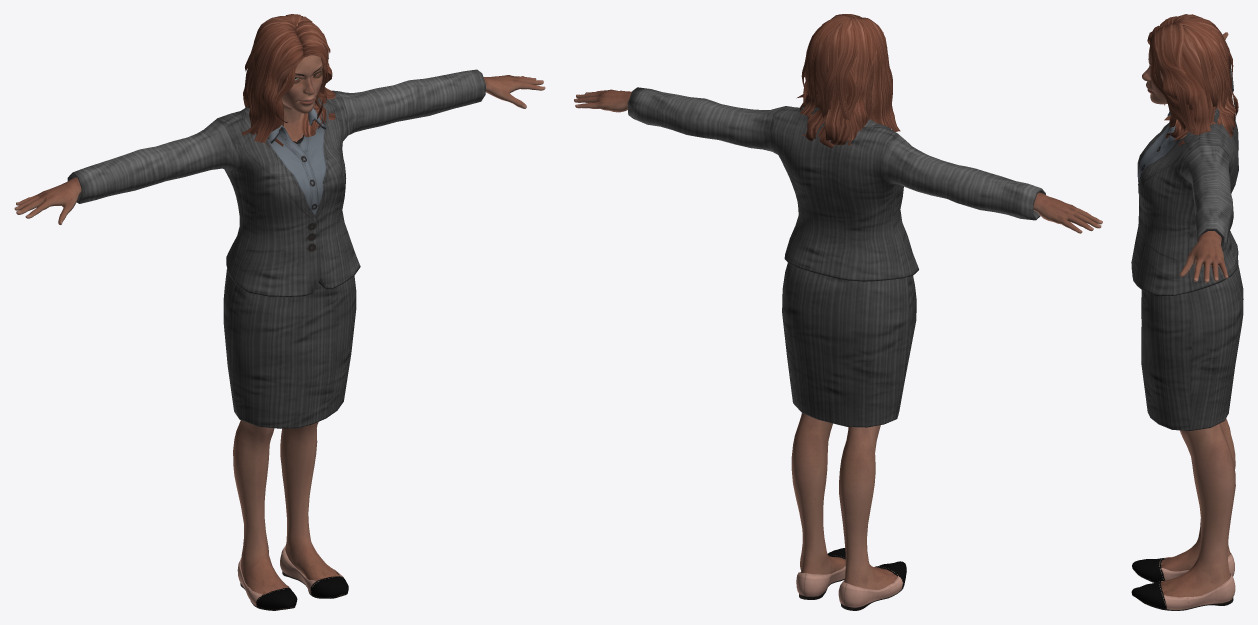
The model's file is modelw10.obj.
3 renders of one model, left to right at view 1: azimuth 30°, elevation 25°; view 2: azimuth 150°, elevation 25°; view 3: azimuth 270°, elevation 25°, orthographic.
Parts seen in each view (by area): view 1: Tops, Bottoms, Body, Hair, Shoes; view 2: Tops, Bottoms, Body, Hair, Shoes; view 3: Tops, Bottoms, Body, Hair, Shoes.
Part boxes in pixels (left/top/right/bottom): Tops: left=67, top=69, right=485, bottom=296; Bottoms: left=223, top=268, right=356, bottom=428; Body: left=14, top=55, right=545, bottom=594; Hair: left=241, top=14, right=335, bottom=147; Shoes: left=237, top=545, right=348, bottom=610; Tops: left=627, top=87, right=1045, bottom=281; Bottoms: left=782, top=263, right=916, bottom=427; Body: left=574, top=89, right=1102, bottom=591; Hair: left=796, top=14, right=900, bottom=148; Shoes: left=796, top=548, right=906, bottom=610; Tops: left=1131, top=69, right=1238, bottom=295; Bottoms: left=1141, top=264, right=1243, bottom=430; Body: left=1142, top=32, right=1235, bottom=602; Hair: left=1147, top=14, right=1238, bottom=146; Shoes: left=1131, top=552, right=1235, bottom=610.
Size of the model in its own units: 171 by 177 by 31.47.
Materials: 5 (5 with a texture image).
